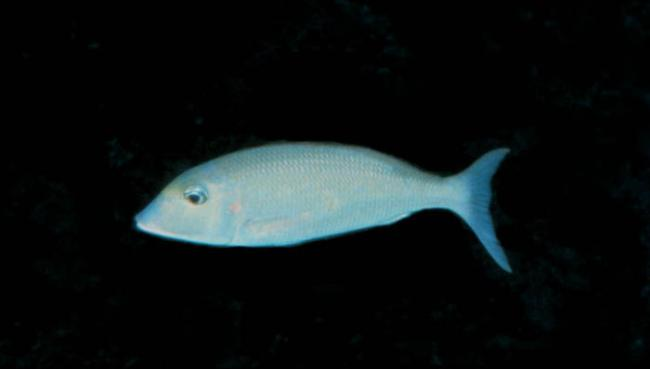fish: (135, 140, 513, 274)
